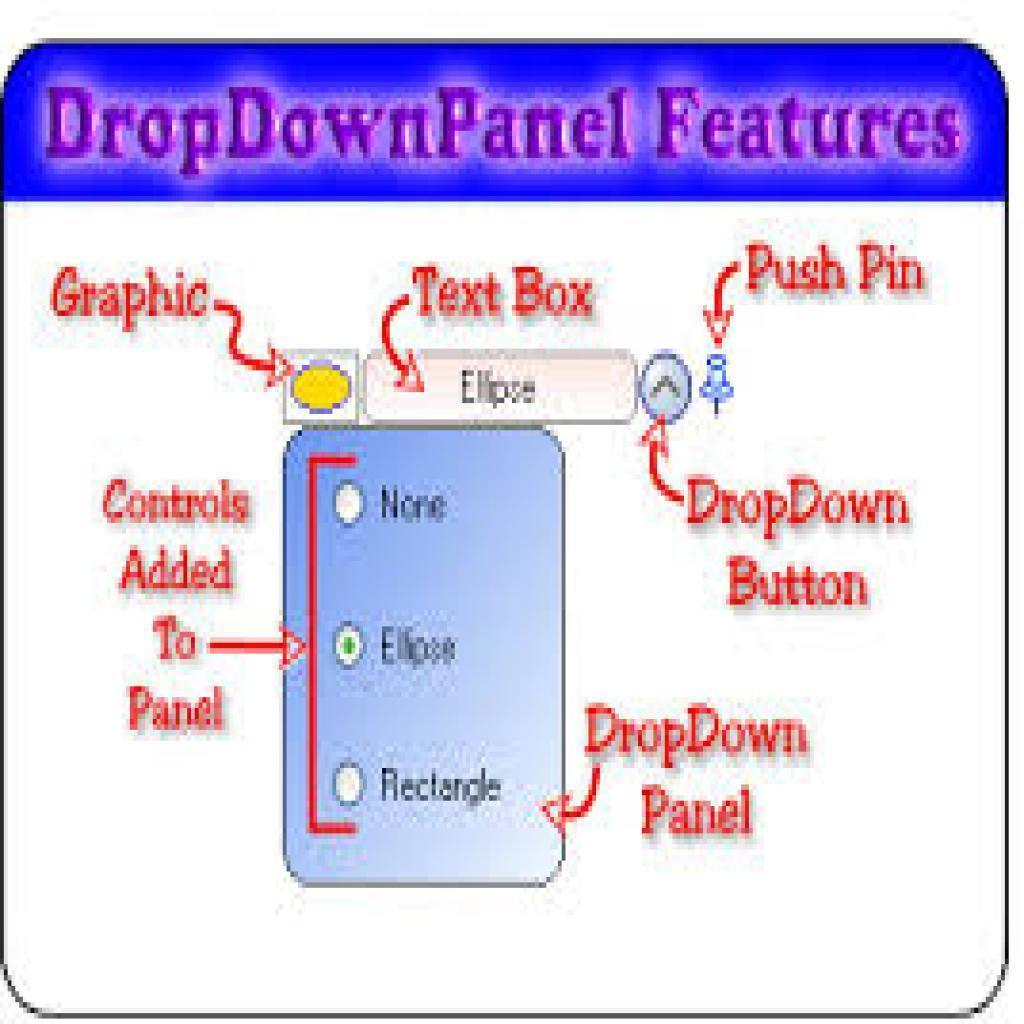dropdown: (361, 348, 696, 429)
radio: (329, 757, 370, 808), (334, 616, 369, 669), (334, 480, 366, 529)
